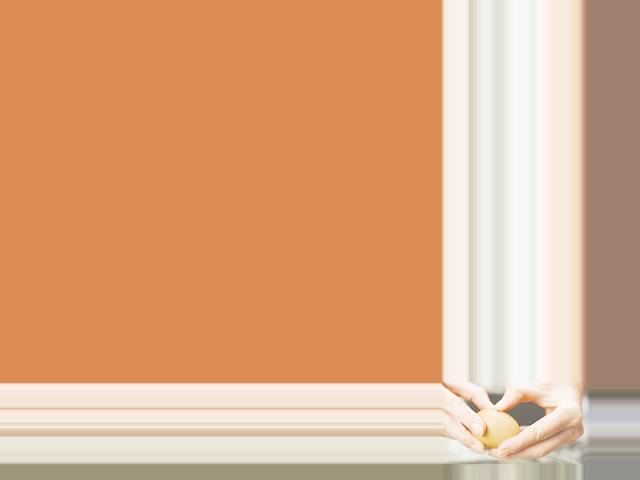egg: (470, 408, 519, 449)
